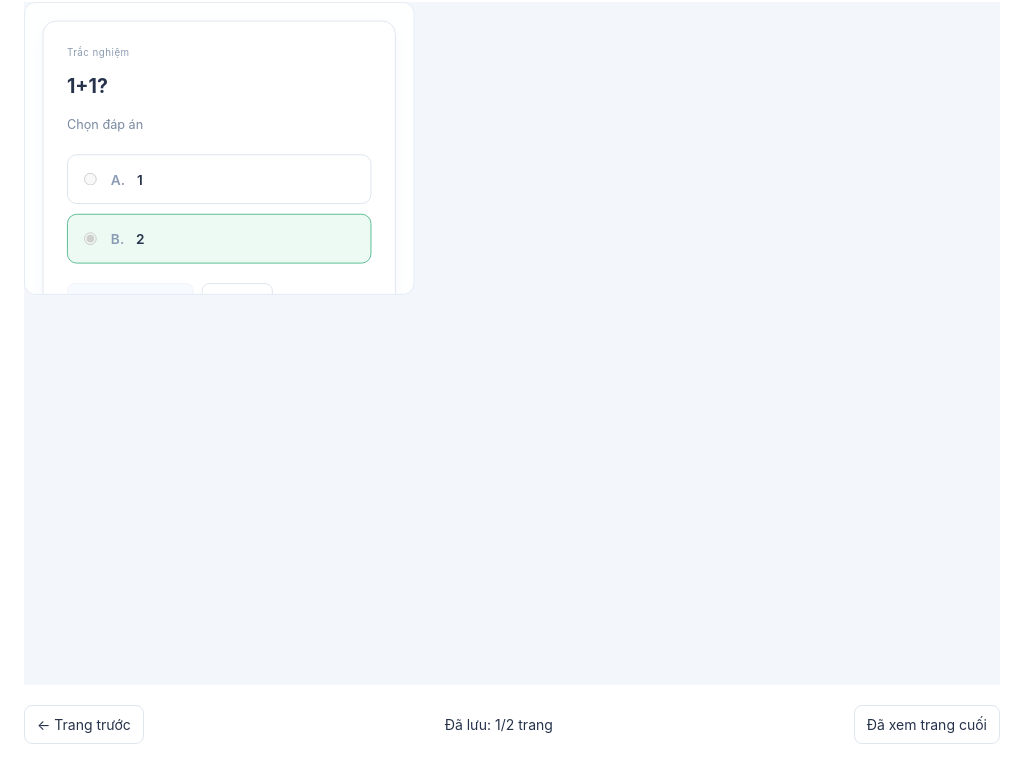
Test: opens assigned lessons and records actual server-confirmed page visits
Earlier steps of the test are not shown.
(page scrolled)
Click the button "← Trang trước". click: (84, 725)
box: [24, 705, 144, 744]
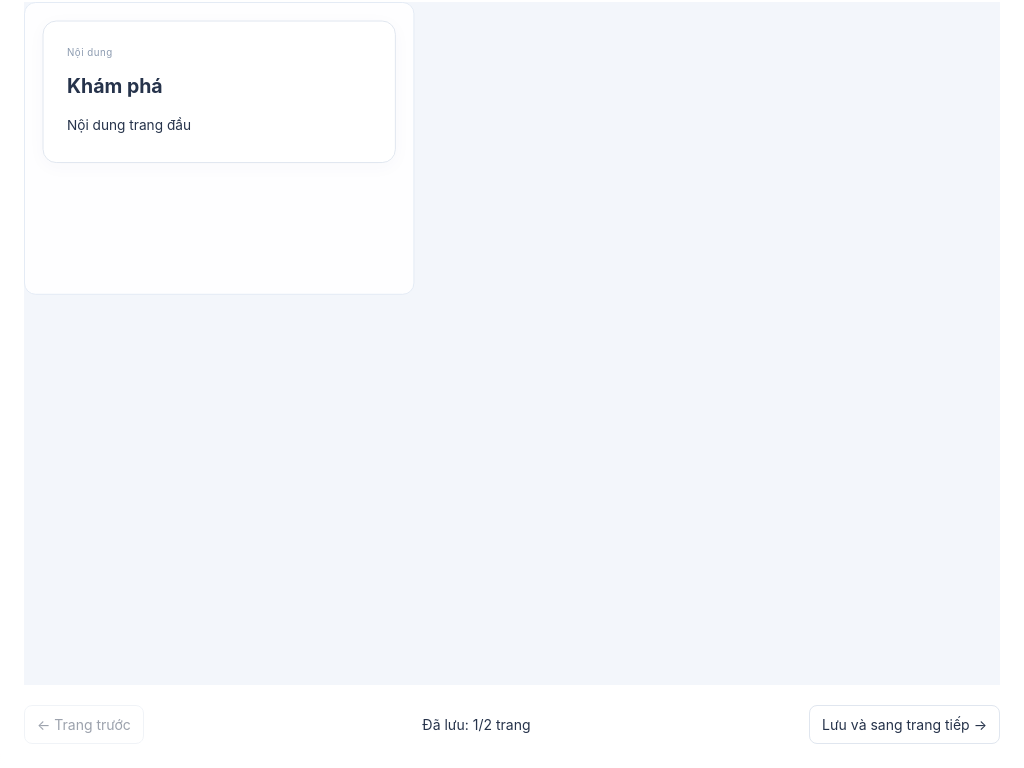
Click the button "Lưu và sang trang tiếp →". click: (904, 725)
box: [809, 705, 1000, 744]
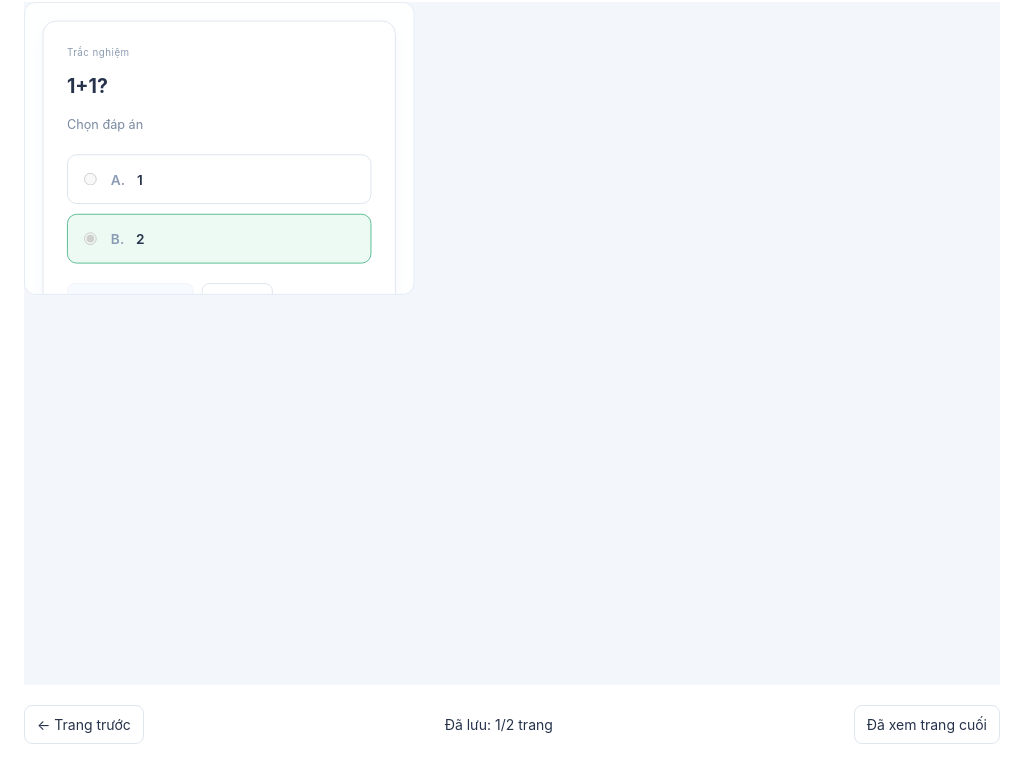
Expected: the radio button labelled "B. 2" is checked, [82, 232, 99, 245]
Click the button "Đã xem trang cuối". click: (927, 725)
box: [854, 705, 1000, 744]
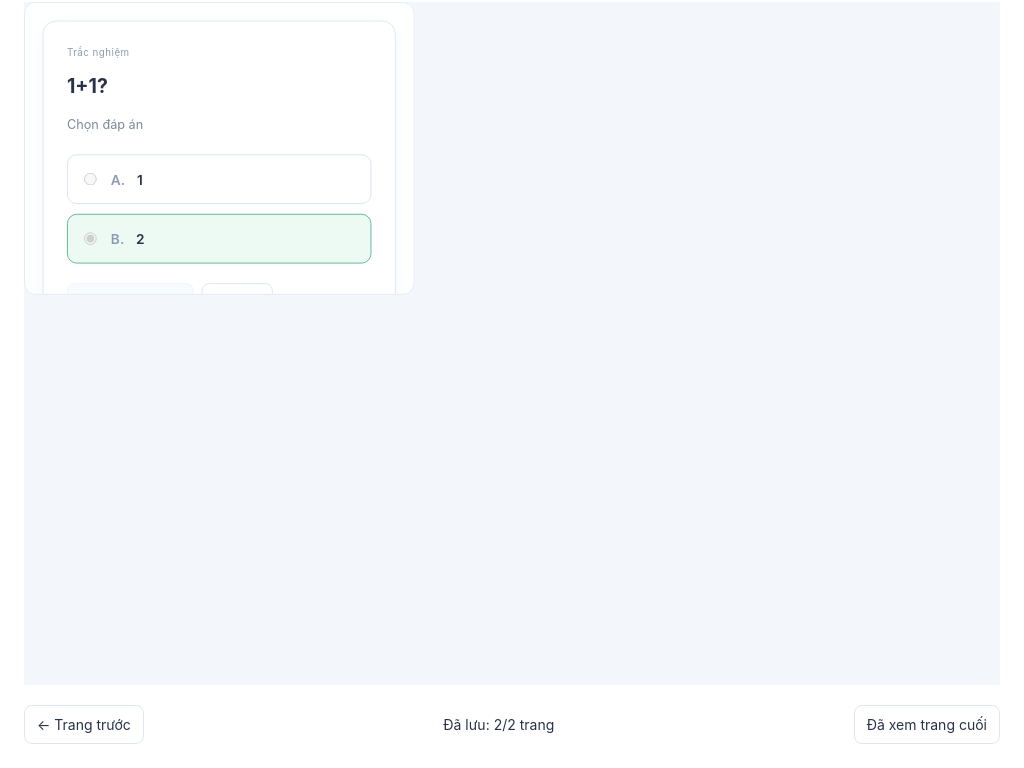
Expected: the text "Đã lưu: 2/2 trang" is shown, [443, 714, 554, 735]
